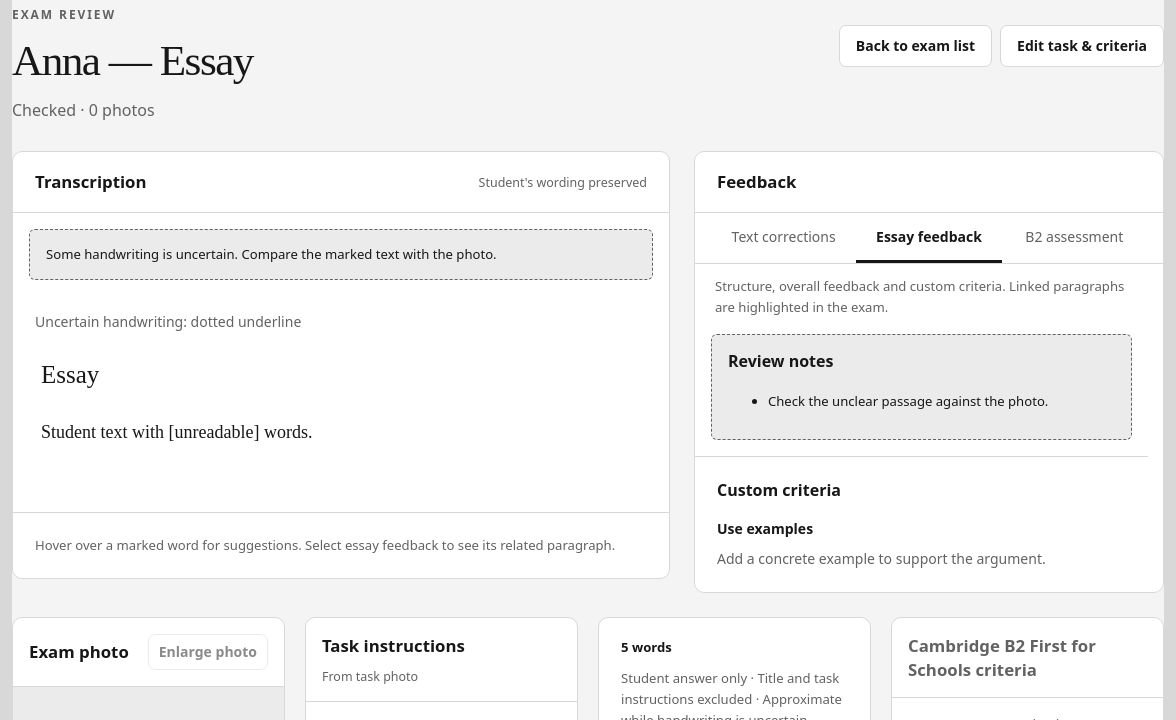
ReviewScreen and transcript ranges › shows B2 scores in their own tab and keeps custom criteria and review notes in essay feedback
Expected: the text "From task photo" is shown, [322,668,418,685]
Expected: the element named "Word count" shows "5 words", [621,638,672,656]
Click the tab "B2 assessment": {"x": 1074, "y": 238} [1002,213,1147,263]
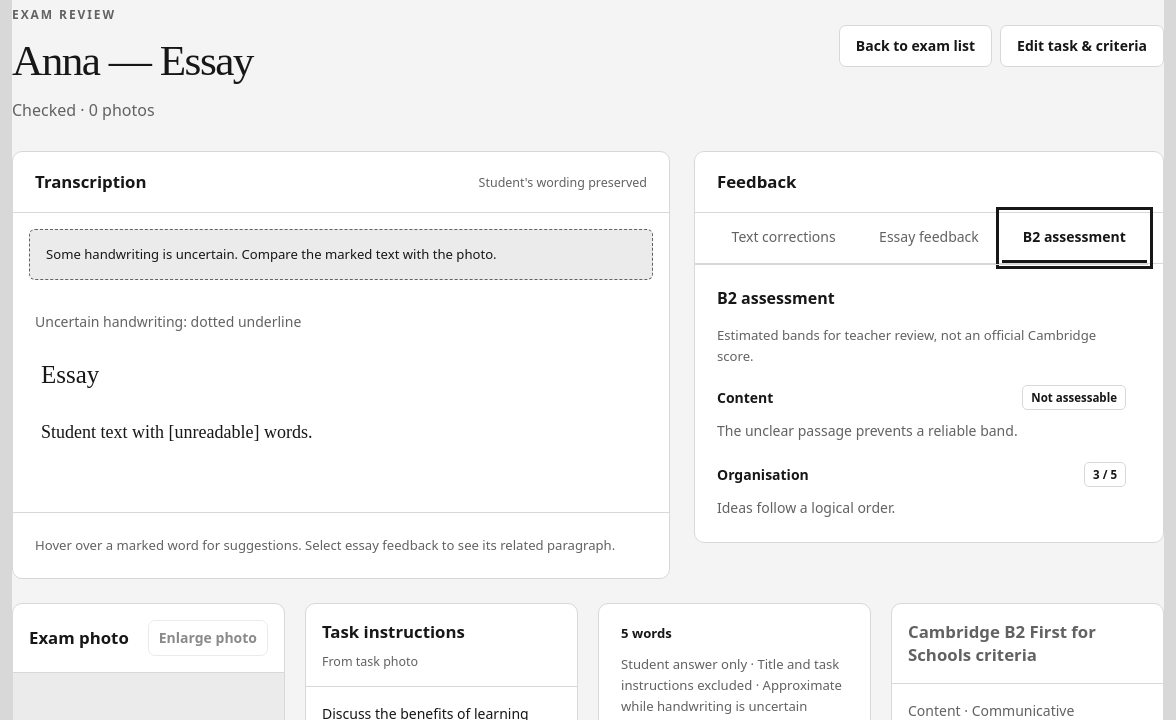
Expected: the element "B2 assessment" shows "not an official Cambridge score", [717,326,1096,365]
Expected: the element "B2 assessment" shows "Not assessable", [1031,390,1117,405]
Expected: the element "B2 assessment" shows "3 / 5", [1093,467,1117,482]
Click the tab "Text corrections": {"x": 784, "y": 238} [711,213,856,263]
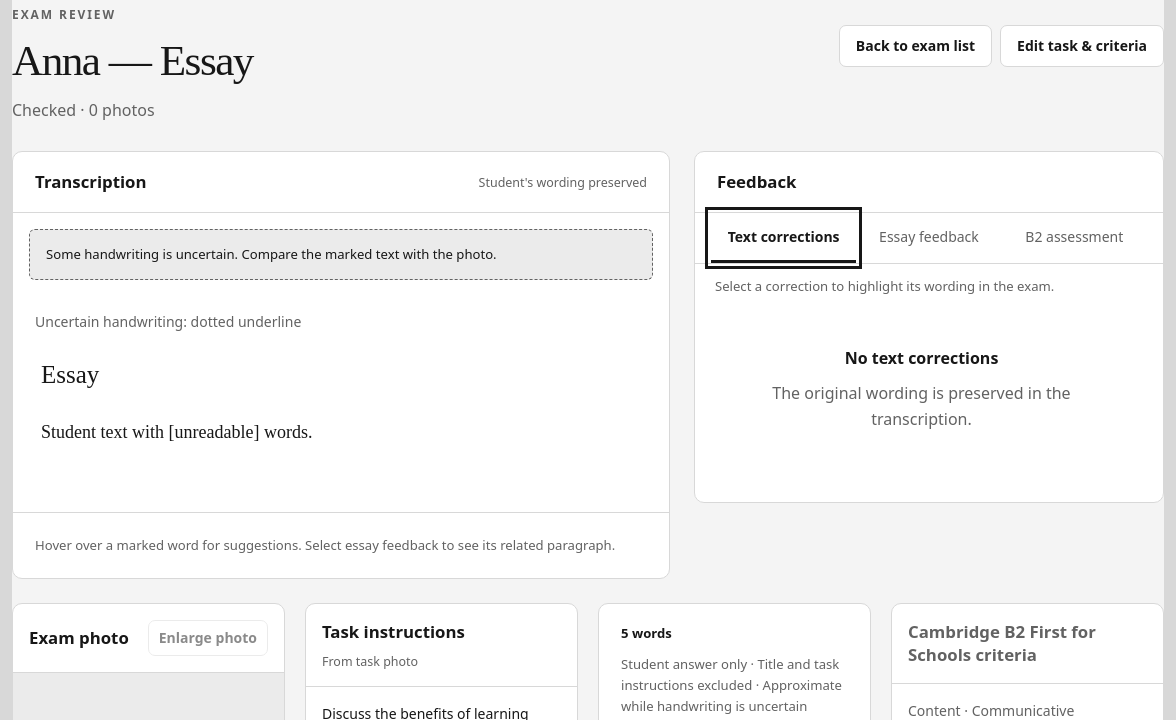
Click the tab "Essay feedback": {"x": 929, "y": 238} [856,213,1002,263]
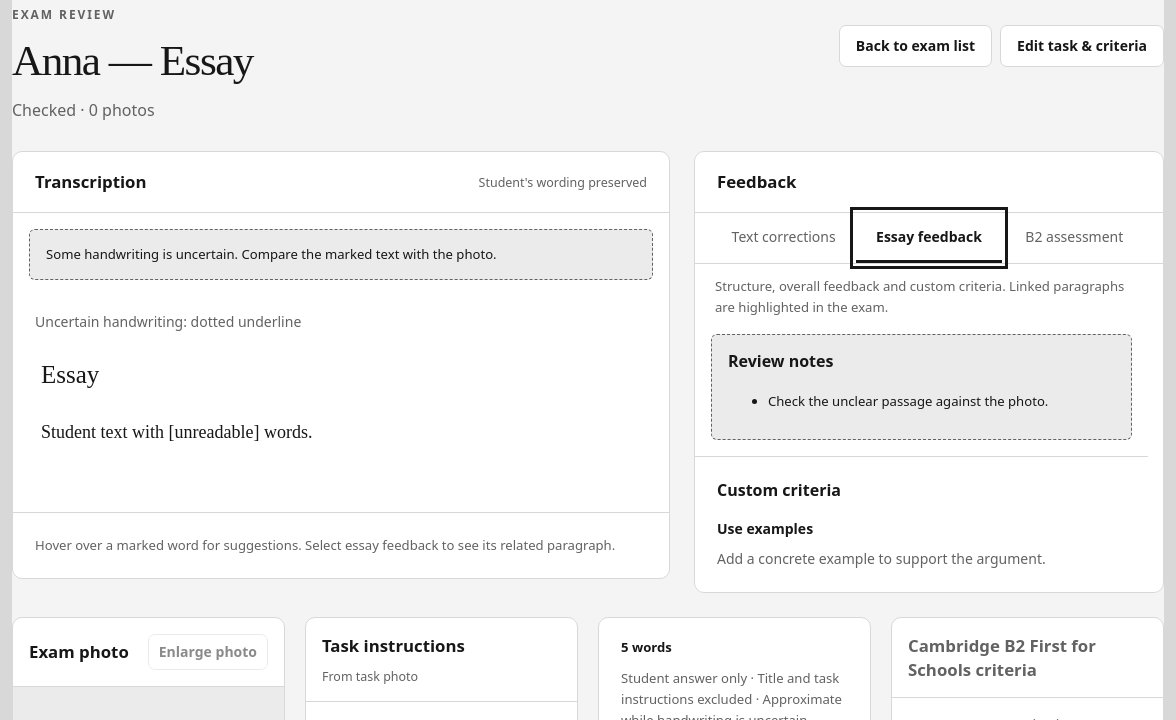
Expected: the element named "Custom criteria assessment" shows "Add a concrete example", [717,549,1046,568]
